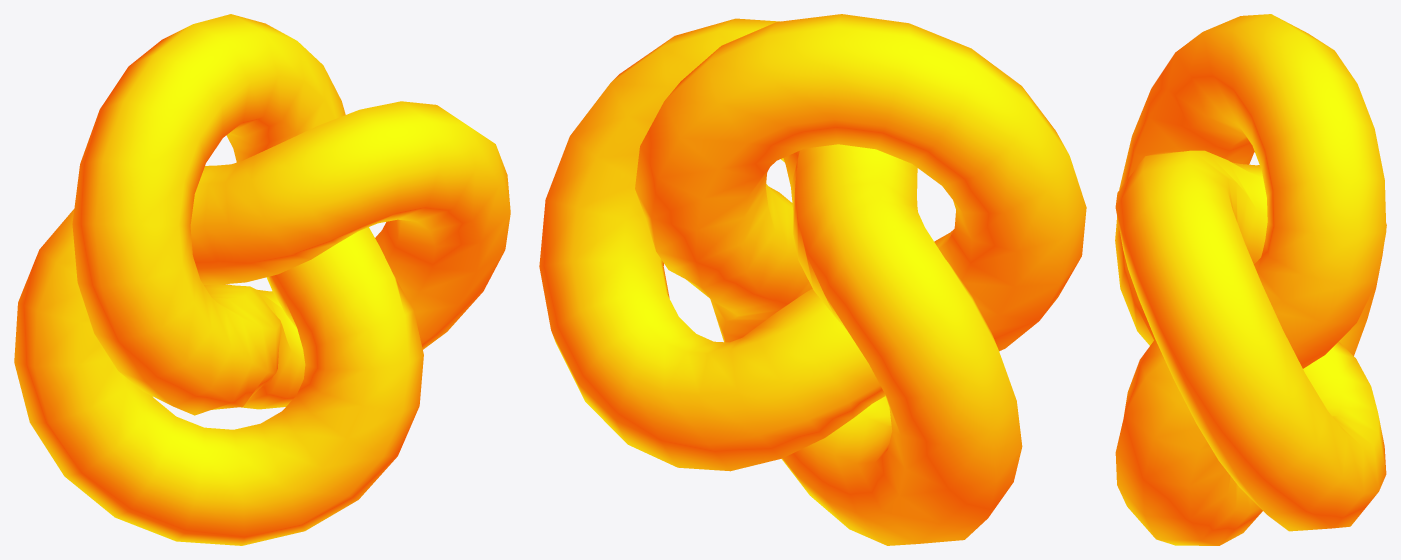
Rendered from glb.glb.
3 views of the same model, side by side, from view 1: azimuth 30°, elevation 25°; view 2: azimuth 150°, elevation 25°; view 3: azimuth 270°, elevation 25° (orthographic). The views are drawn at different scales.
Visible parts, largest first — view 1: TorusKnot; view 2: TorusKnot; view 3: TorusKnot.
Boxes of the visible parts, x1,y1,x2,y2 form: TorusKnot: [14, 14, 510, 545]; TorusKnot: [539, 14, 1086, 545]; TorusKnot: [1115, 14, 1386, 545].
Size of what is drawn, in the model's own units: 3.46 by 3.6 by 1.78.
